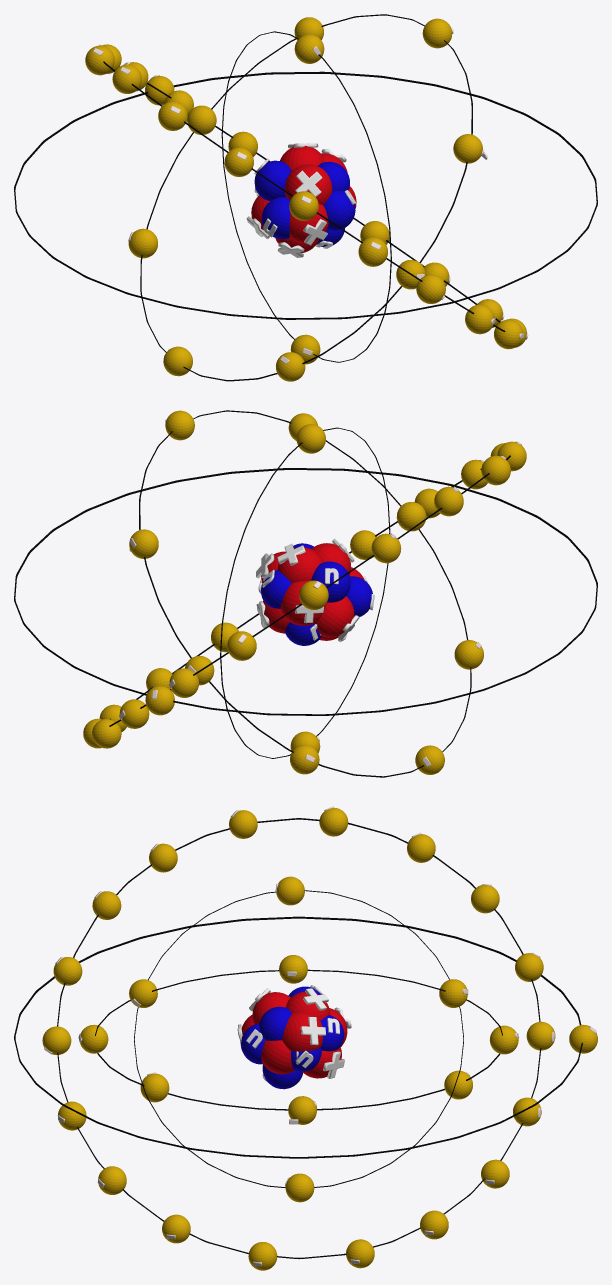
3 views of the same model, one above another, from view 1: azimuth 30°, elevation 25°; view 2: azimuth 150°, elevation 25°; view 3: azimuth 270°, elevation 25° (orthographic). The views are drawn at different scales.
Parts seen in each view (by area): view 1: Circle.003, Circle.001, Circle, Sphere.015, Circle.002, Sphere.014, Sphere.012, Sphere.018, Sphere.007, Sphere.026, Sphere.013, Sphere.016 (+19 smaller); view 2: Circle.003, Circle.001, Circle, Sphere.011, Sphere.007, Sphere.015, Circle.002, Sphere.005, Sphere.018, Sphere.027, Sphere.026, Sphere.003 (+21 smaller); view 3: Circle.003, Circle.002, Circle.001, Circle, Sphere.030, Sphere, Sphere.024, Sphere.002, Sphere.010, Sphere.036, Sphere.003, Sphere.041 (+26 smaller).
Boxes of the visible parts, left/top/right/bottom form: Circle.003: left=14, top=71, right=597, bottom=319; Circle.001: left=140, top=14, right=472, bottom=381; Circle: left=221, top=31, right=391, bottom=362; Sphere.015: left=254, top=160, right=291, bottom=200; Circle.002: left=103, top=61, right=505, bottom=331; Sphere.014: left=284, top=164, right=332, bottom=204; Sphere.012: left=323, top=191, right=355, bottom=230; Sphere.018: left=261, top=197, right=290, bottom=239; Sphere.007: left=280, top=145, right=323, bottom=170; Sphere.026: left=422, top=18, right=452, bottom=48; Sphere.013: left=453, top=134, right=482, bottom=163; Sphere.016: left=163, top=346, right=192, bottom=376; Circle.003: left=14, top=468, right=597, bottom=715; Circle.001: left=139, top=410, right=471, bottom=777; Circle: left=220, top=427, right=390, bottom=758; Sphere.011: left=314, top=596, right=354, bottom=637; Sphere.007: left=277, top=547, right=323, bottom=582; Sphere.015: left=311, top=561, right=350, bottom=602; Circle.002: left=109, top=455, right=510, bottom=726; Sphere.005: left=280, top=581, right=326, bottom=625; Sphere.018: left=346, top=576, right=372, bottom=616; Sphere.027: left=261, top=570, right=291, bottom=608; Sphere.026: left=165, top=410, right=194, bottom=440; Sphere.003: left=296, top=424, right=325, bottom=453; Circle.003: left=14, top=916, right=582, bottom=1158; Circle.002: left=57, top=818, right=541, bottom=1259; Circle.001: left=95, top=969, right=502, bottom=1110; Circle: left=134, top=890, right=463, bottom=1187; Sphere.030: left=282, top=1012, right=322, bottom=1051; Sphere: left=261, top=1040, right=294, bottom=1074; Sphere.024: left=259, top=1006, right=291, bottom=1040; Sphere.002: left=285, top=1173, right=314, bottom=1202; Sphere.010: left=140, top=1073, right=169, bottom=1102; Sphere.036: left=319, top=807, right=348, bottom=836; Sphere.003: left=276, top=876, right=304, bottom=905; Sphere.041: left=407, top=834, right=435, bottom=862.
Bounding box in the file's own units: 99.42 × 62.06 × 102.
